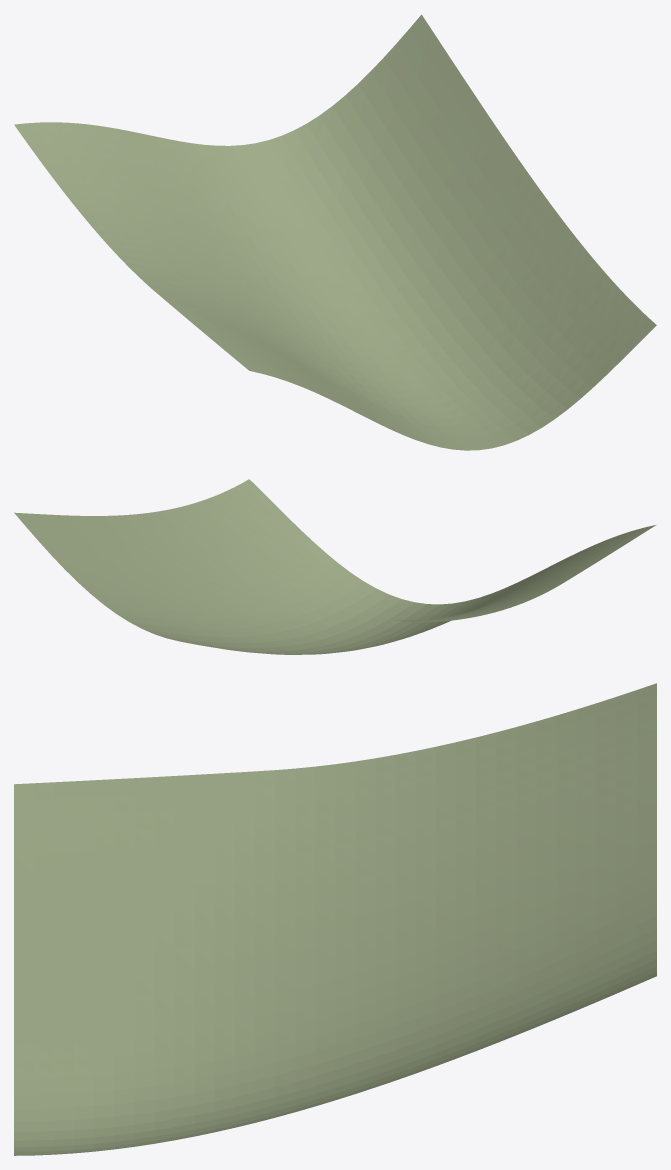
Rendered from expanse-14-9.glb.
3 renders of one model, top to bottom at view 1: azimuth 30°, elevation 25°; view 2: azimuth 150°, elevation 25°; view 3: azimuth 270°, elevation 25°, orthographic. The views are drawn at different scales.
Parts seen in each view (by area): view 1: expanse-14-9; view 2: expanse-14-9; view 3: expanse-14-9.
Boxes of the visible parts, x1,y1,x2,y2 form: expanse-14-9: [14, 14, 656, 450]; expanse-14-9: [14, 479, 655, 654]; expanse-14-9: [14, 683, 656, 1155].
Size of the model in its own units: 256 by 133 by 256.
